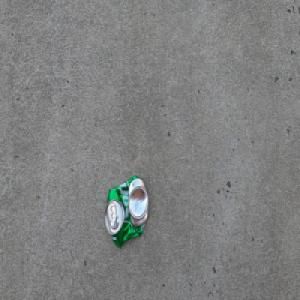SodaCan: (104, 174, 149, 248)
